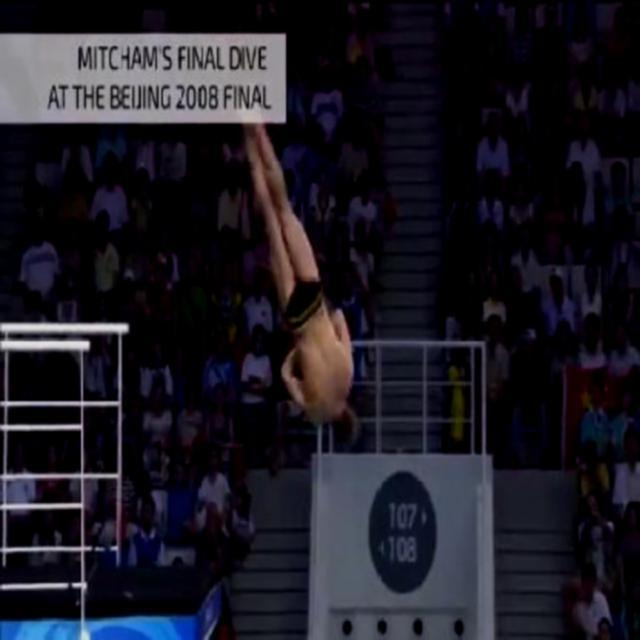non-fight: (246, 124, 360, 444)
